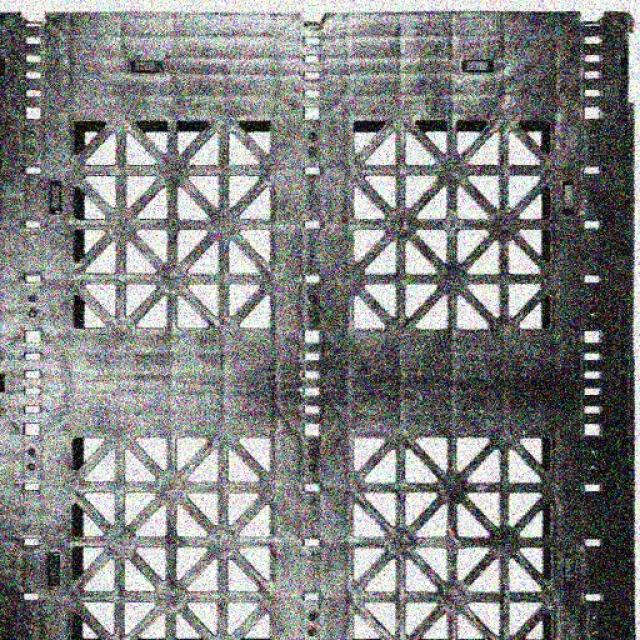non-igps: (0, 0, 637, 632)
